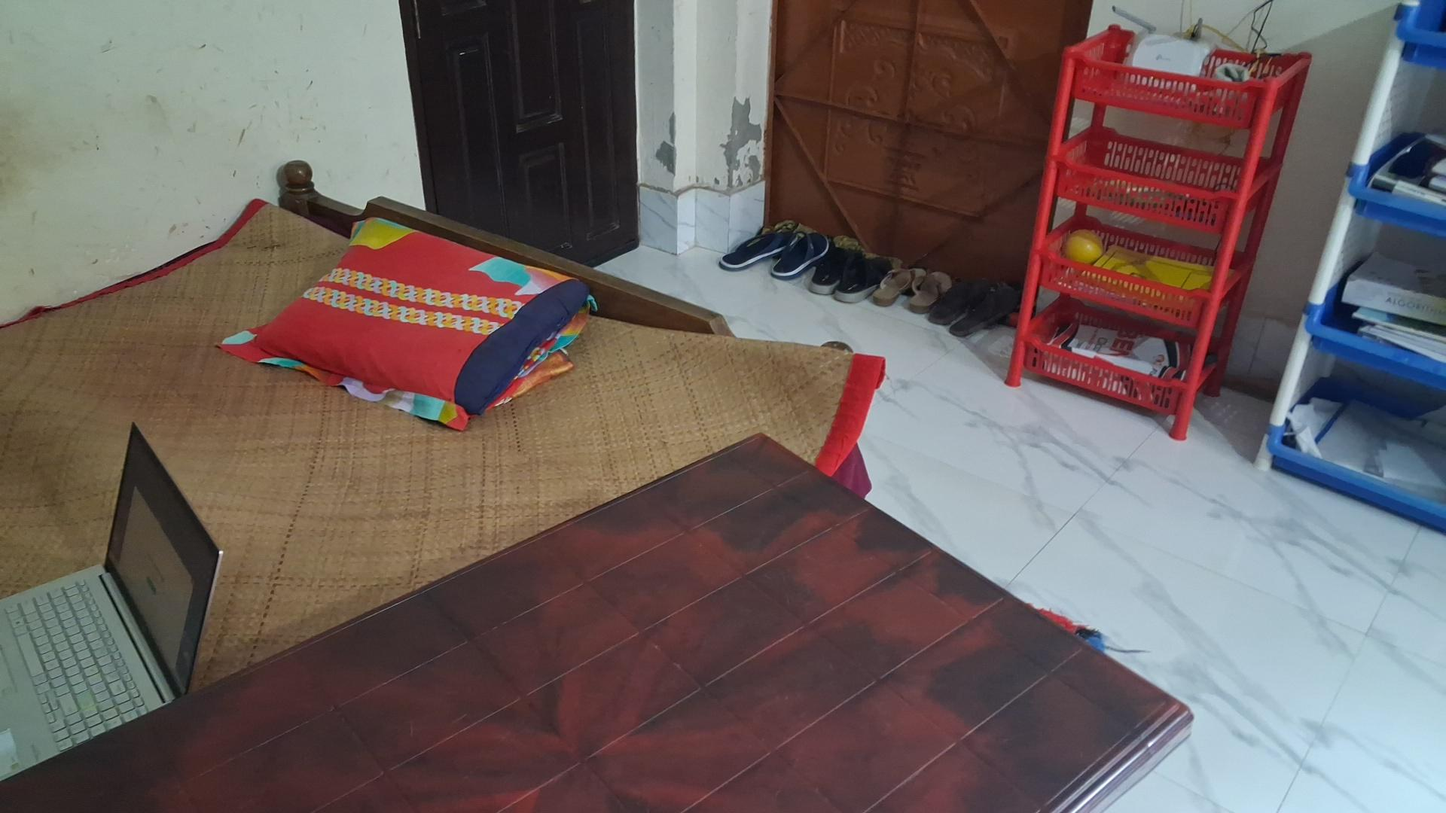Footwear: (715, 229, 831, 278), (808, 248, 892, 309), (933, 277, 1009, 335), (876, 260, 953, 315)
Laptop: (0, 422, 226, 781)
Pillow: (216, 211, 592, 438)
Rack: (1015, 19, 1311, 436), (1259, 2, 1446, 549)
Table: (0, 431, 1195, 813)
